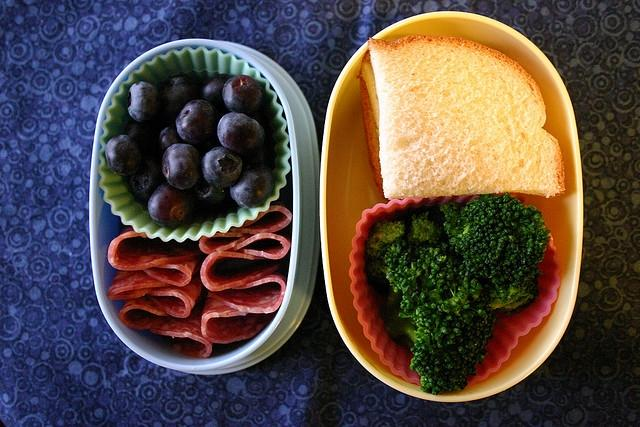blueberry: (148, 182, 196, 227), (229, 162, 275, 208), (176, 99, 222, 145), (217, 112, 265, 156), (222, 74, 266, 116), (162, 144, 202, 190), (202, 146, 242, 188), (125, 159, 161, 204), (200, 74, 237, 117), (160, 76, 198, 117), (105, 134, 142, 176), (126, 80, 160, 122), (185, 174, 227, 208), (122, 122, 158, 154), (158, 126, 188, 155)
broccoli: (364, 194, 550, 391)
